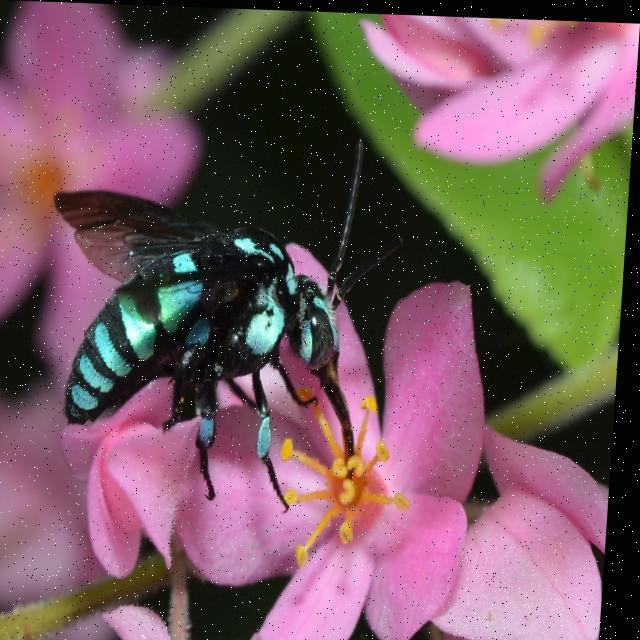Thyreus: (41, 119, 396, 537)
